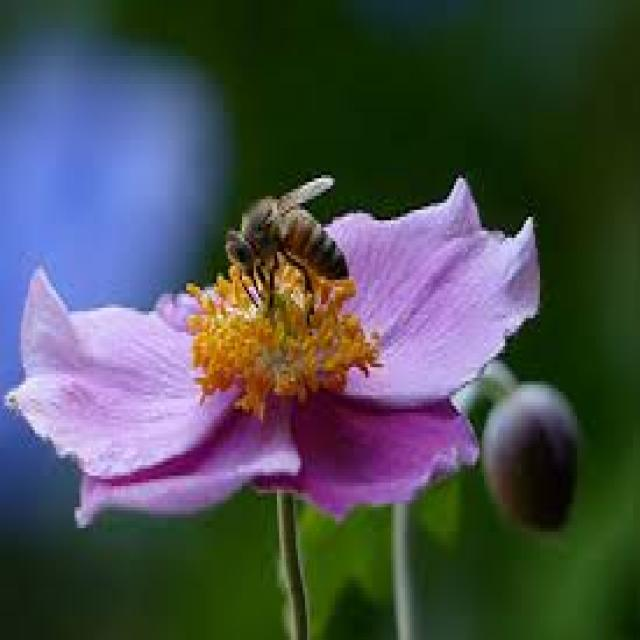Bees: (224, 171, 352, 318)
